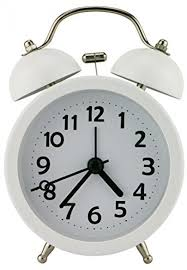alarm_clock: (7, 9, 184, 263), (7, 9, 175, 263)
